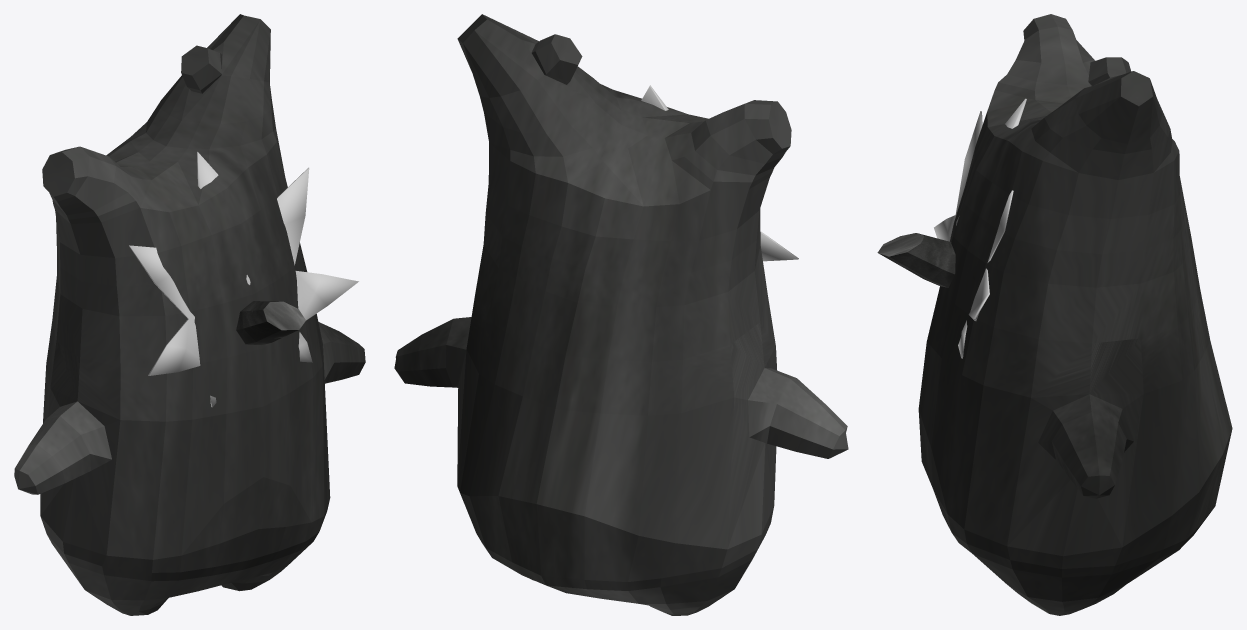
File: frame_0056.obj
3 views of the same model, side by side, from view 1: azimuth 30°, elevation 25°; view 2: azimuth 150°, elevation 25°; view 3: azimuth 270°, elevation 25° (orthographic). The views are drawn at different scales.
Visible parts, largest first — view 1: korok, leaf, nose; view 2: korok, leaf; view 3: korok, nose, leaf.
Part boxes in pixels (x1,y1,x2,y2): korok: (14,14,365,615); leaf: (129,152,358,407); nose: (236,301,305,344); korok: (394,14,848,615); leaf: (641,85,798,261); korok: (918,14,1232,615); nose: (877,233,955,287); leaf: (934,98,1026,358).
Bounding box in the file's own units: 1.7 × 2.29 × 1.32.
